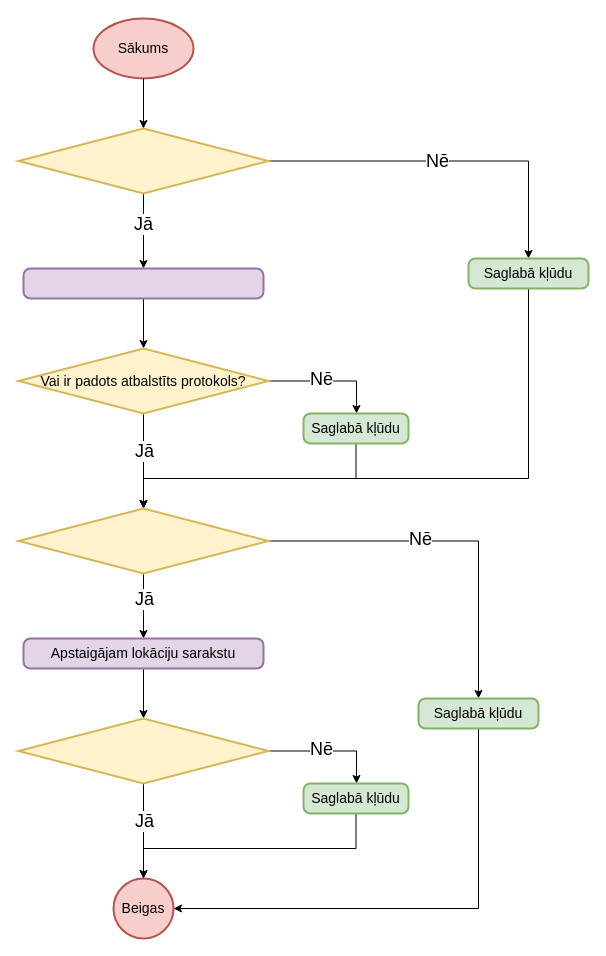
This 606x956 diagram has some shape labels left out. The shapes that lost their labels are listed below. From the top down, each one's centre as x and y in pixels, then its label:
[143,160]: Vai ir definēts protokols?
[143,283]: Apstaigājam protokolu sarakstu
[143,540]: Vai ir definēta lokācija?
[143,750]: Vai ir padota atbalstīta lokācija?
